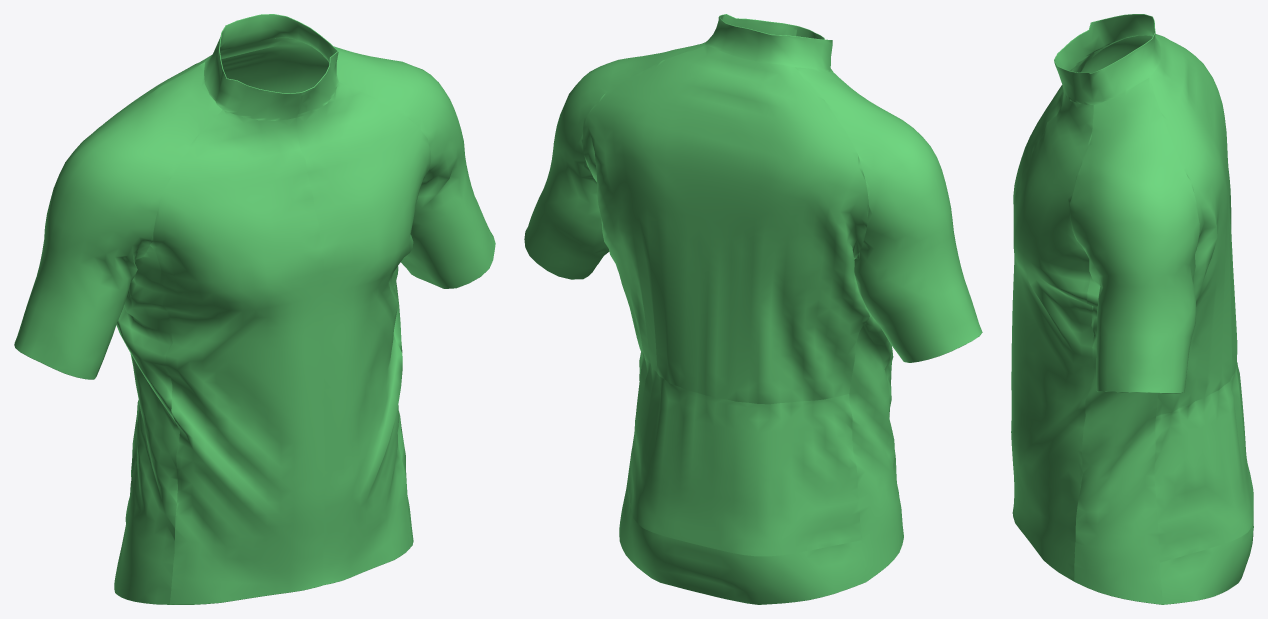
Rendered from green.dae.
3 views of the same model, side by side, from view 1: azimuth 30°, elevation 25°; view 2: azimuth 150°, elevation 25°; view 3: azimuth 270°, elevation 25° (orthographic). The views are drawn at different scales.
Parts seen in each view (by area): view 1: Collar4_3, Collar3_4, Collar8_2, Collar10_6, Collar9_1, Collar5_11, Collar12_9, Collar12_20, Collar11_7; view 2: Collar5_0, Collar7_5, Collar8_2, Collar6_8, Collar9_1, Collar10_6, Collar12_9, Collar12_20; view 3: Collar3_4, Collar9_1, Collar11_7, Collar5_0, Collar7_5, Collar6_8, Collar12_9, Collar12_20, Collar4_3, Collar8_13.
Boxes of the visible parts, box(x1,y1,x2,y2) form: Collar4_3: box(150, 110, 324, 604); Collar3_4: box(296, 82, 430, 584); Collar8_2: box(14, 62, 222, 379); Collar10_6: box(115, 245, 179, 604); Collar9_1: box(334, 46, 495, 288); Collar5_11: box(220, 37, 329, 93); Collar12_9: box(204, 37, 338, 120); Collar12_20: box(220, 14, 337, 62); Collar11_7: box(393, 266, 413, 544); Collar5_0: box(581, 45, 869, 404); Collar7_5: box(627, 351, 861, 556); Collar8_2: box(795, 67, 982, 362); Collar6_8: box(619, 483, 865, 604); Collar9_1: box(524, 42, 705, 279); Collar10_6: box(849, 309, 903, 581); Collar12_9: box(705, 17, 832, 72); Collar12_20: box(720, 14, 823, 39); Collar3_4: box(1011, 88, 1094, 581); Collar9_1: box(1070, 78, 1199, 392); Collar11_7: box(1074, 274, 1162, 604); Collar5_0: box(1149, 35, 1237, 416); Collar7_5: box(1154, 362, 1253, 562); Collar6_8: box(1160, 492, 1253, 604); Collar12_9: box(1054, 33, 1161, 104); Collar12_20: box(1055, 14, 1154, 71); Collar4_3: box(1011, 85, 1063, 509); Collar8_13: box(1080, 35, 1152, 73).
Size of the model in its own units: 63.01 by 29.53 by 71.44.
